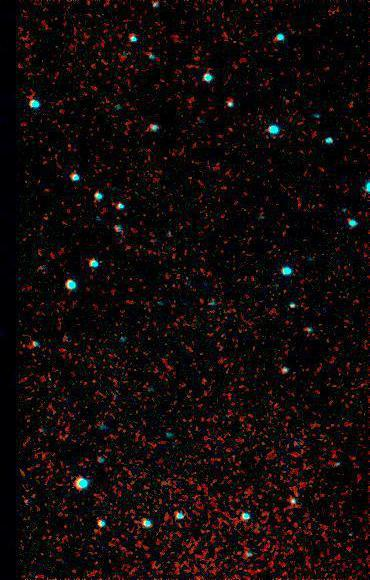star: (270, 355, 300, 385)
